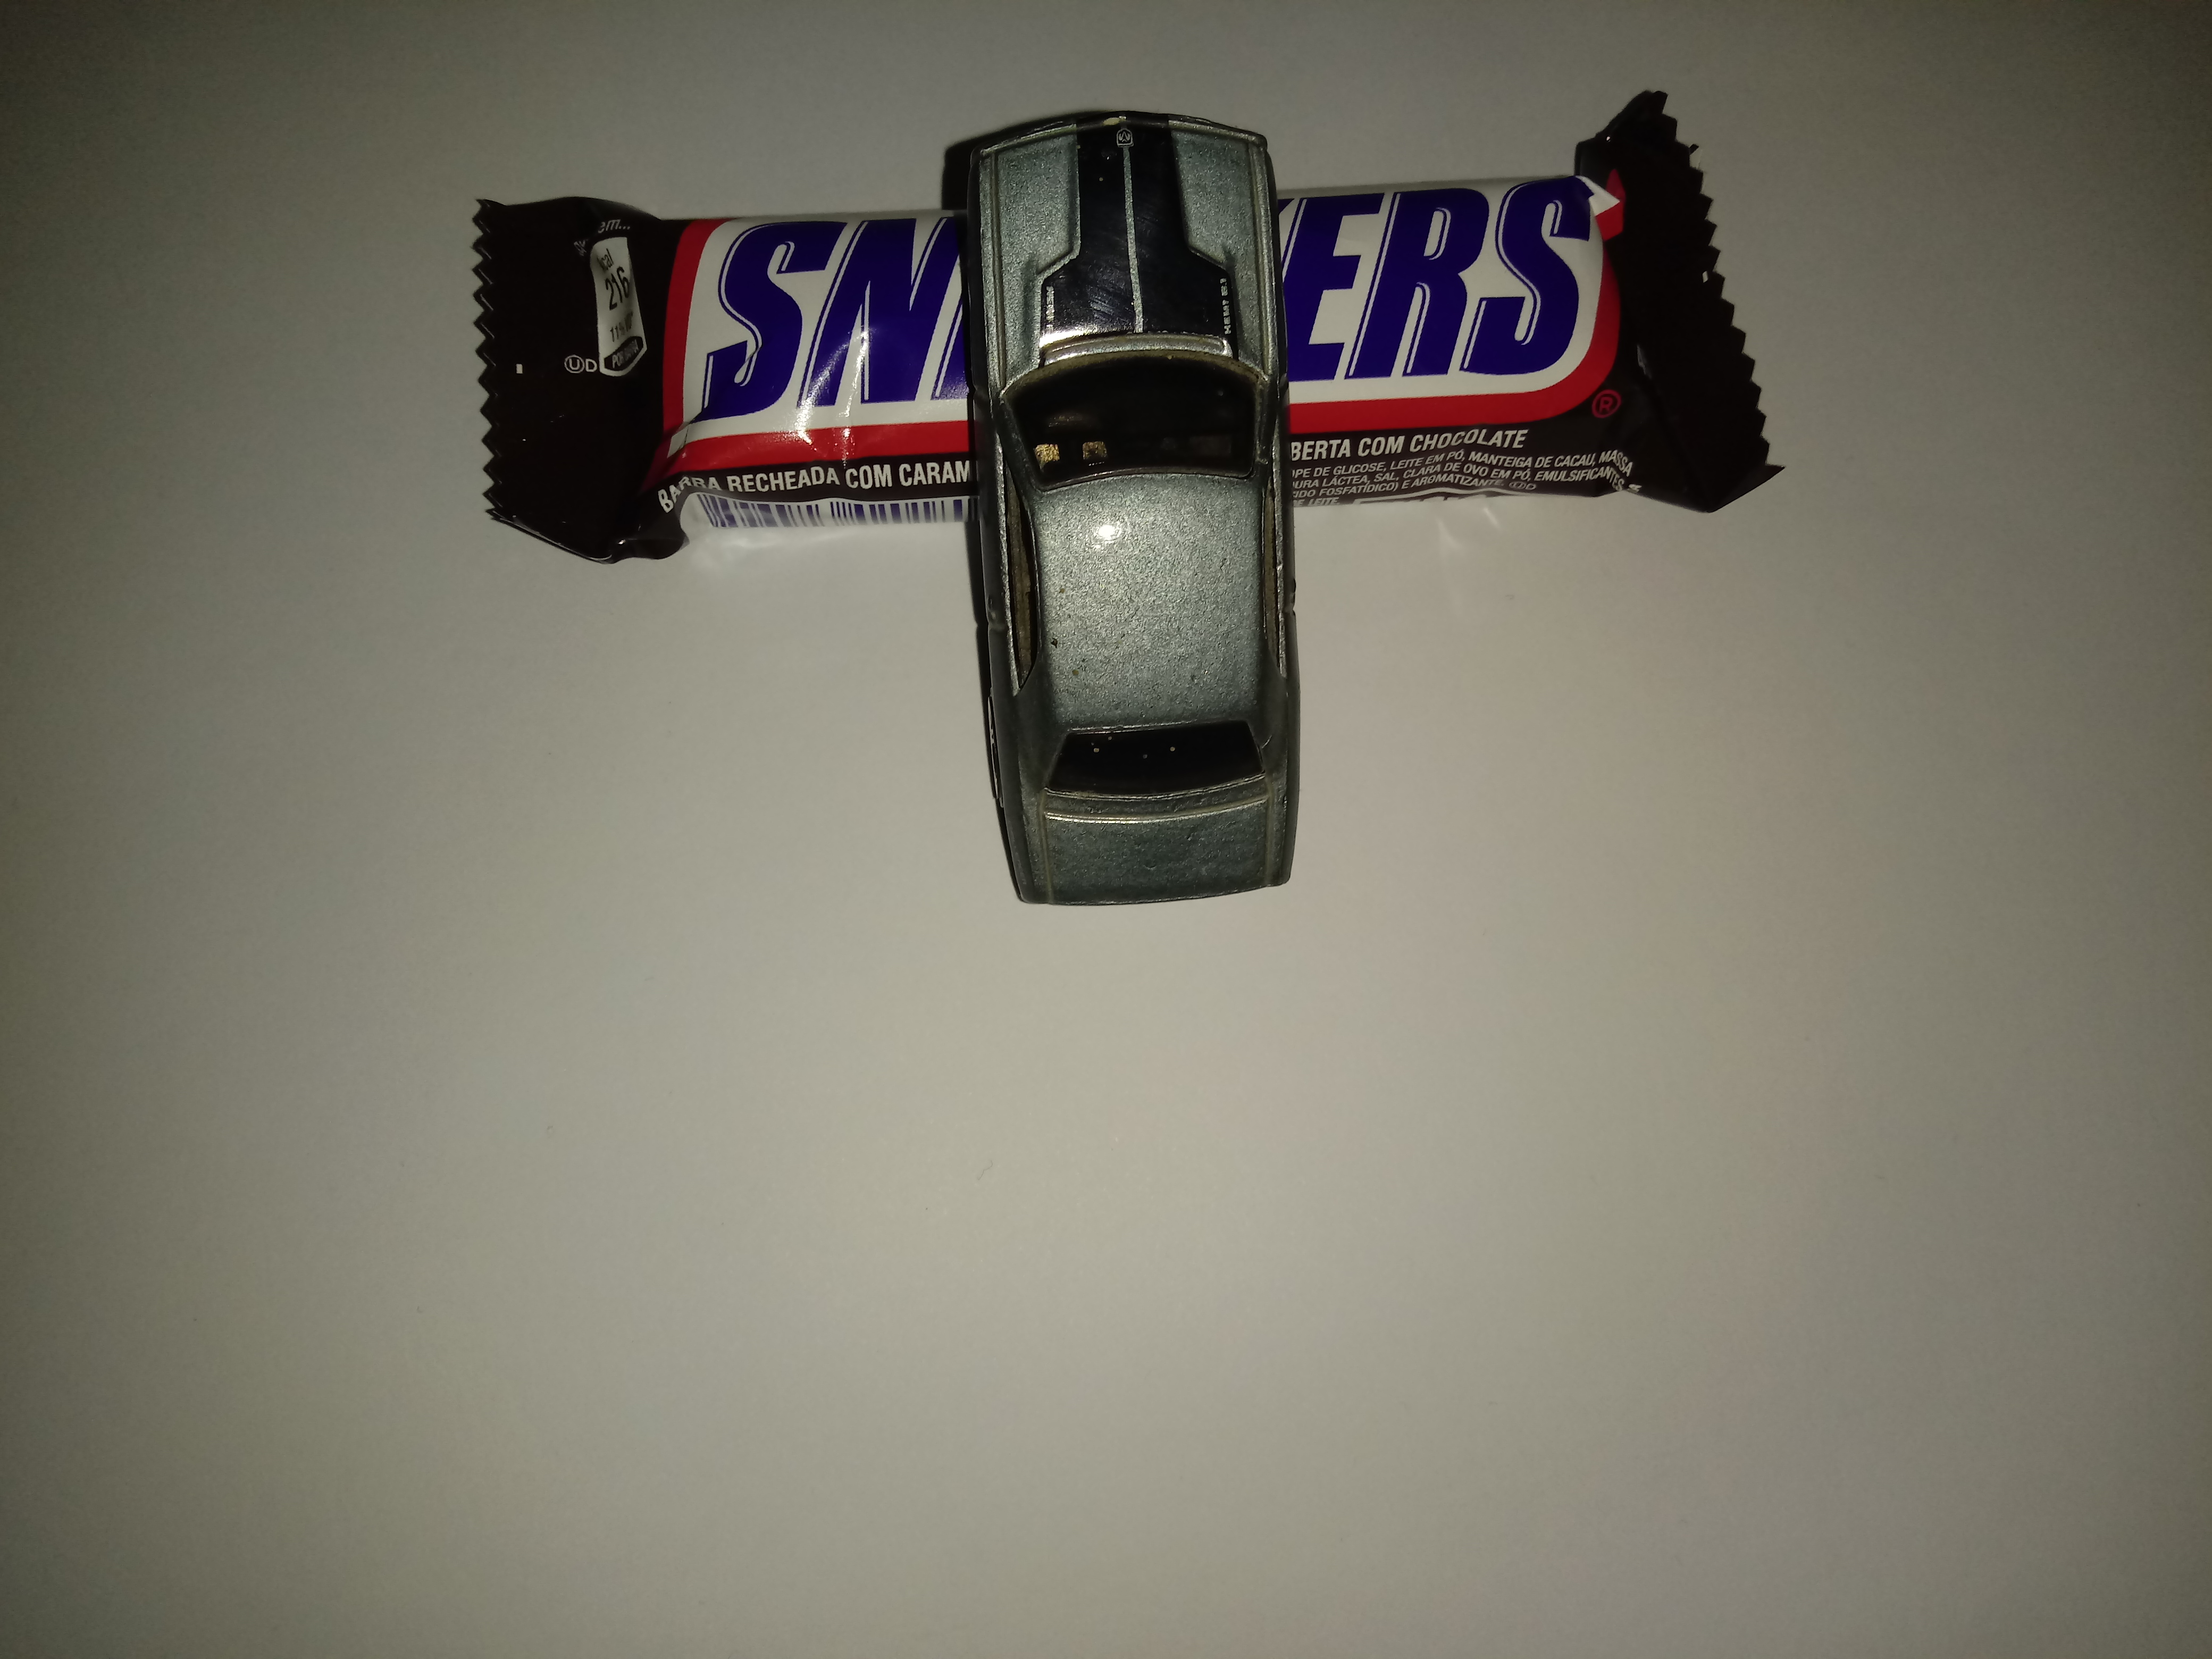snickers: (387, 70, 1838, 565)
